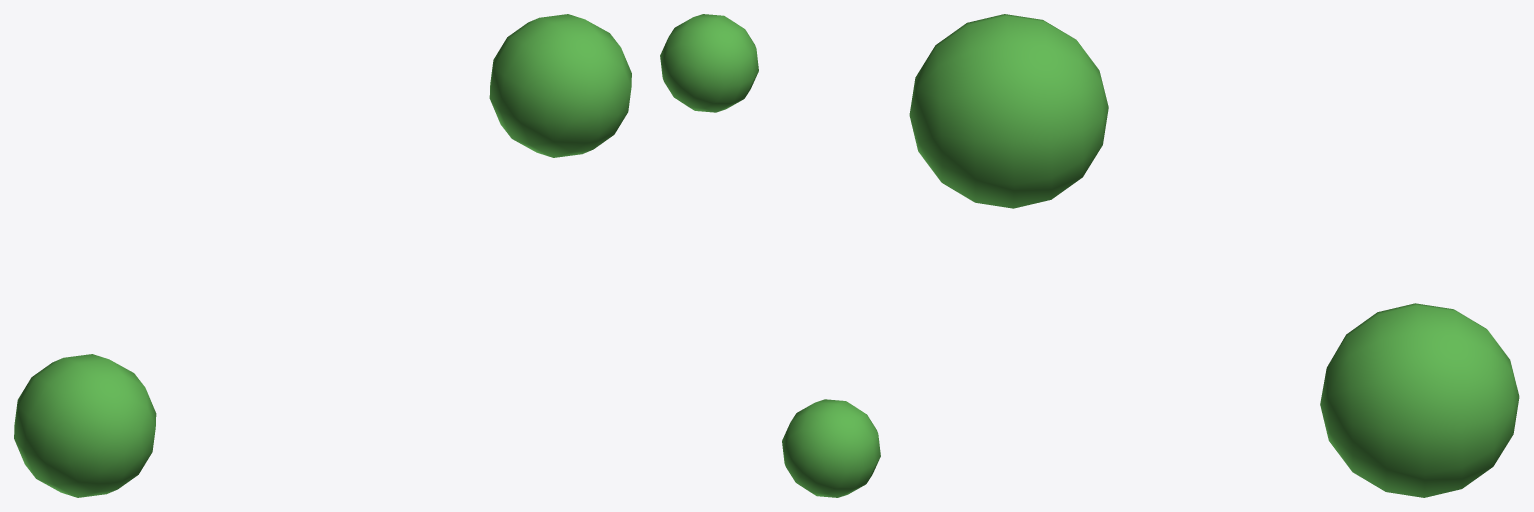
File: linfatico-superficial-popliteal-nodes-l.glb
3 views of the same model, side by side, from view 1: azimuth 30°, elevation 25°; view 2: azimuth 150°, elevation 25°; view 3: azimuth 270°, elevation 25° (orthographic). The views are drawn at different scales.
Parts seen in each view (by area): view 1: Superficial popliteal nodes.l; view 2: Superficial popliteal nodes.l; view 3: Superficial popliteal nodes.l.
Part boxes in pixels (x1=…): Superficial popliteal nodes.l: x1=14, y1=14, x2=631, y2=497; Superficial popliteal nodes.l: x1=660, y1=14, x2=880, y2=497; Superficial popliteal nodes.l: x1=909, y1=14, x2=1519, y2=497.
Bounding box in the file's own units: 0.00932 × 0.00988 × 0.00795.
